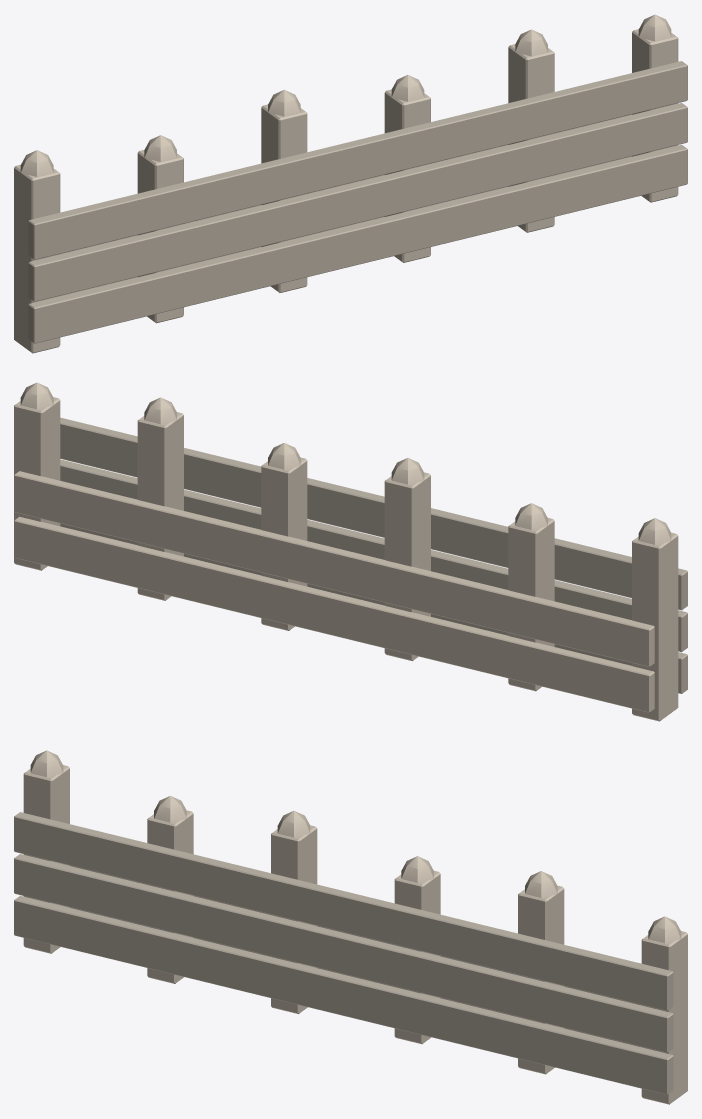
File: amusement-arcade-and-seaside-pier-groyne-timber-sectio-043b0ac9__35428.glb
3 views of the same model, one above another, from view 1: azimuth 30°, elevation 25°; view 2: azimuth 150°, elevation 25°; view 3: azimuth 330°, elevation 25° (orthographic).
Visible parts, largest first — view 1: groyne-timber-section; view 2: groyne-timber-section; view 3: groyne-timber-section.
Boxes of the visible parts, x1,y1,x2,y2 form: groyne-timber-section: (14,14,687,353); groyne-timber-section: (14,382,687,721); groyne-timber-section: (14,750,687,1104).
Bounding box in the file's own units: 3.6 × 1.02 × 0.2827.
